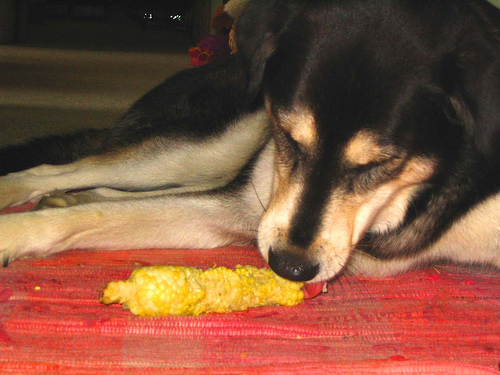corn: (100, 266, 308, 315)
